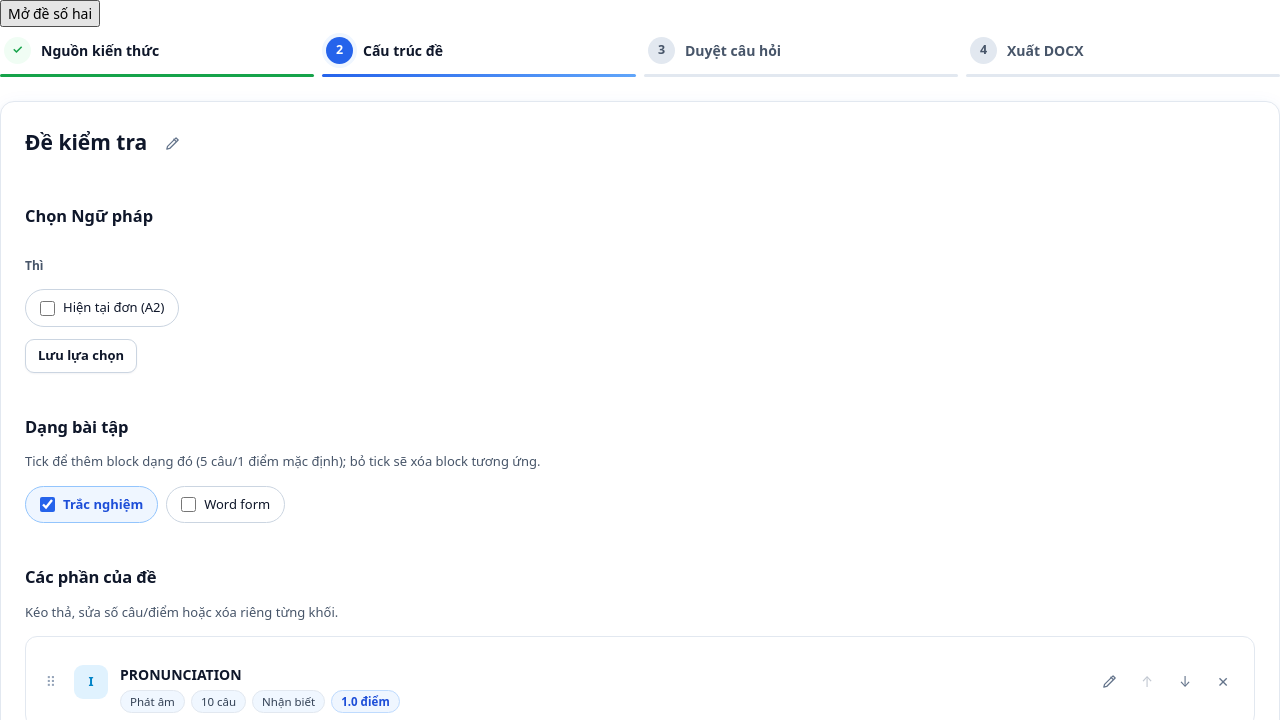
Test: ExamBuilderPage › edits sub-part counts inside the main block form, with no add/delete UI
Click the button named "Chỉnh sửa PRONUNCIATION" at (1109, 682), box 1092,665 -> 1126,699
(page scrolled)
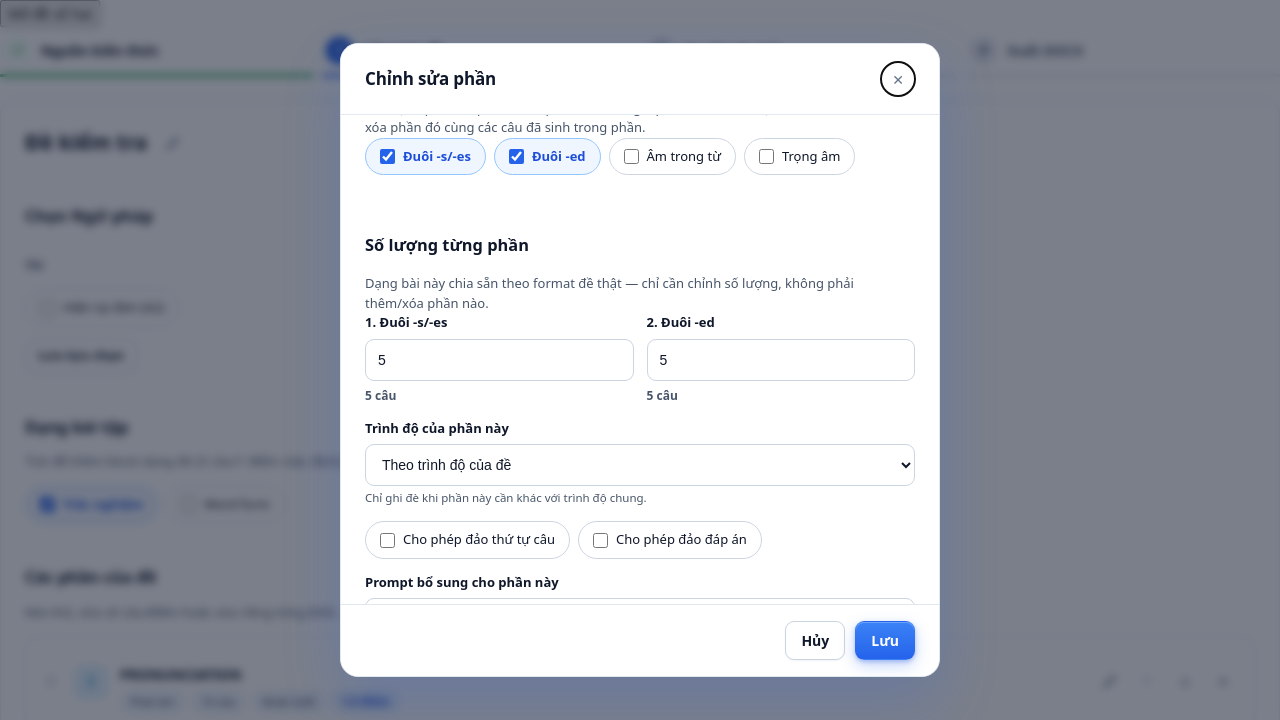
Now the number field labelled "1. Đuôi -s/-es" holds "5", box 365,339 -> 634,381
Now the number field labelled "2. Đuôi -ed" holds "5", box 646,339 -> 915,381
